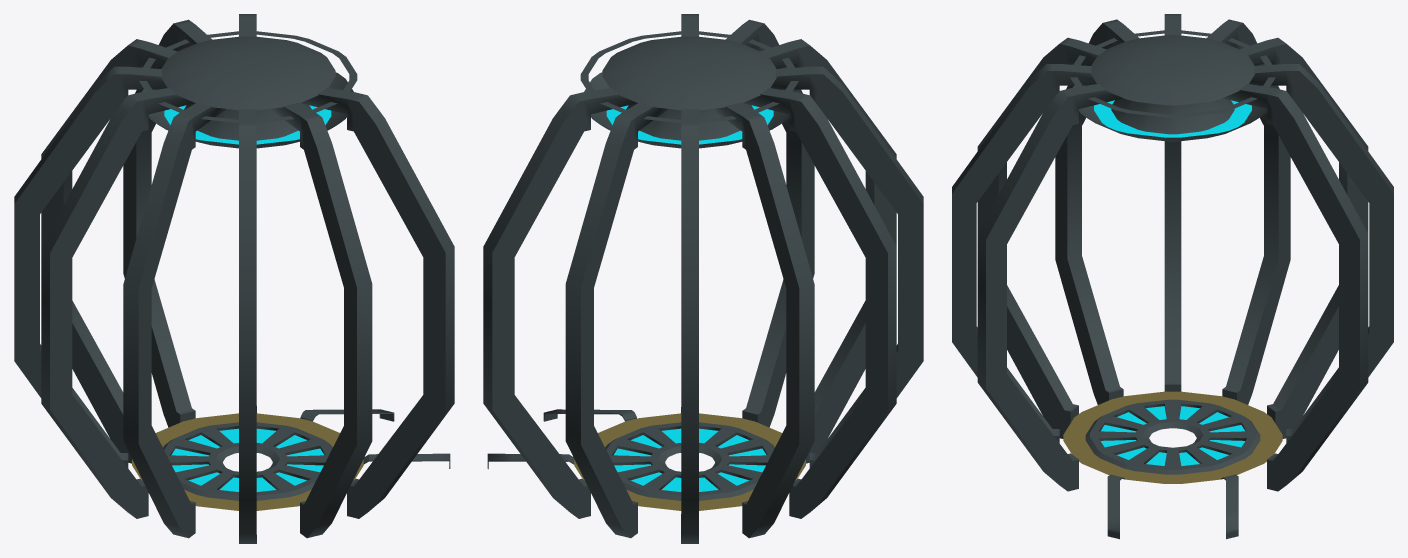
Rendered from fant_teleporter.obj.
The picture shows the model from 3 angles, left to right: view 1: azimuth 30°, elevation 25°; view 2: azimuth 150°, elevation 25°; view 3: azimuth 270°, elevation 25°; orthographic projection. The views are drawn at different scales.
Parts seen in each view (by area): view 1: fant_teleporter_Cylinder.012; view 2: fant_teleporter_Cylinder.012; view 3: fant_teleporter_Cylinder.012.
Boxes of the visible parts, x1=… form: fant_teleporter_Cylinder.012: x1=14, y1=14, x2=454, y2=543; fant_teleporter_Cylinder.012: x1=483, y1=14, x2=923, y2=543; fant_teleporter_Cylinder.012: x1=952, y1=14, x2=1393, y2=539.
Size of the model in its own units: 7.63 by 7.99 by 7.98.
